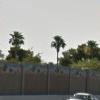Palm tree: (48, 29, 67, 67)
